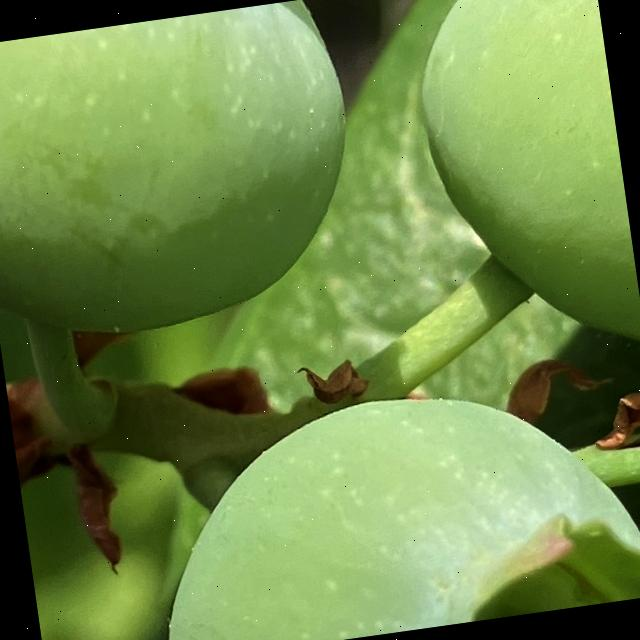Blueberries: (126, 354, 640, 640), (0, 0, 375, 354), (398, 0, 640, 390)
